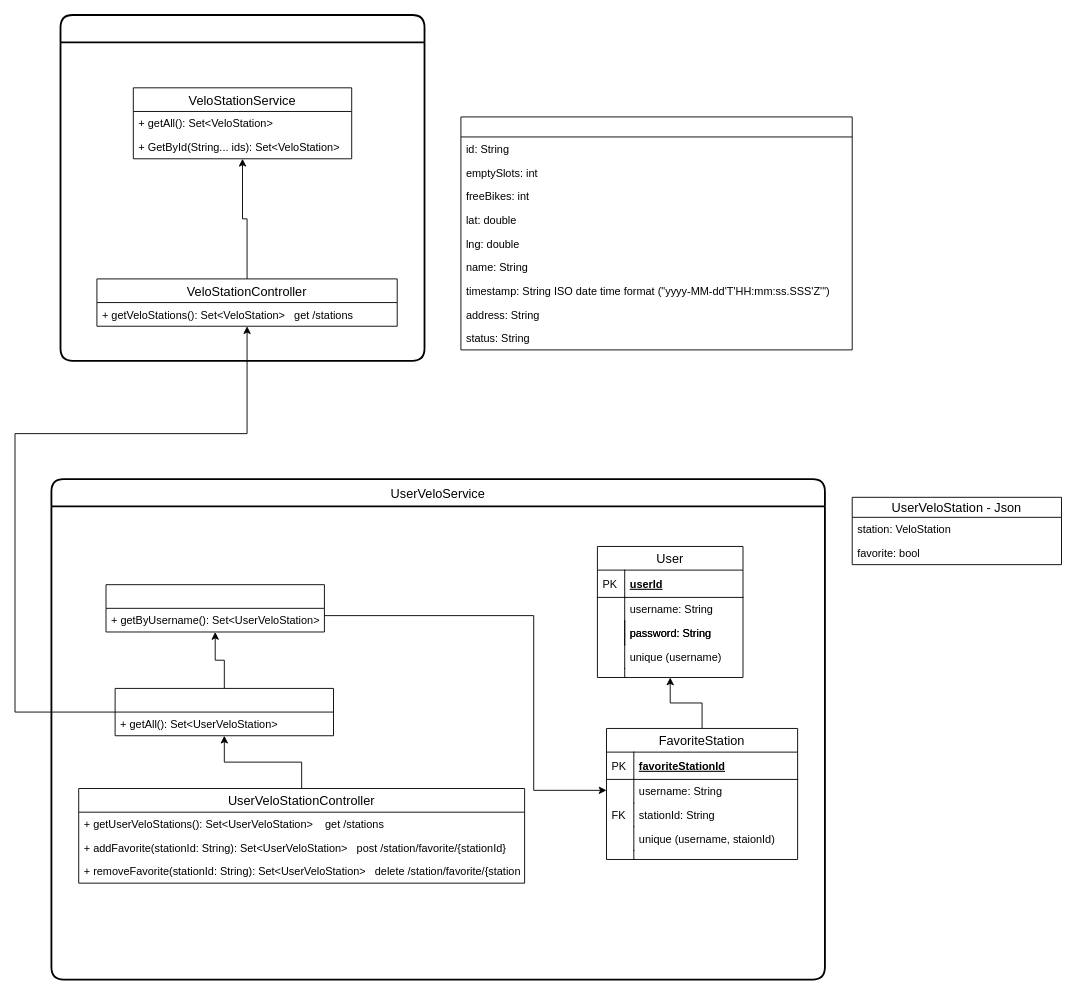
Image size: 1077x995. Some labels were removed from this diagram. Each missing label, with the box of its shape:
UserFavoriteStationRepository: (105, 584, 324, 632)
UserVeloStationService: (114, 688, 334, 736)
VeloService: (59, 14, 425, 361)
VeloStation - Entity/Json: (460, 116, 852, 350)
